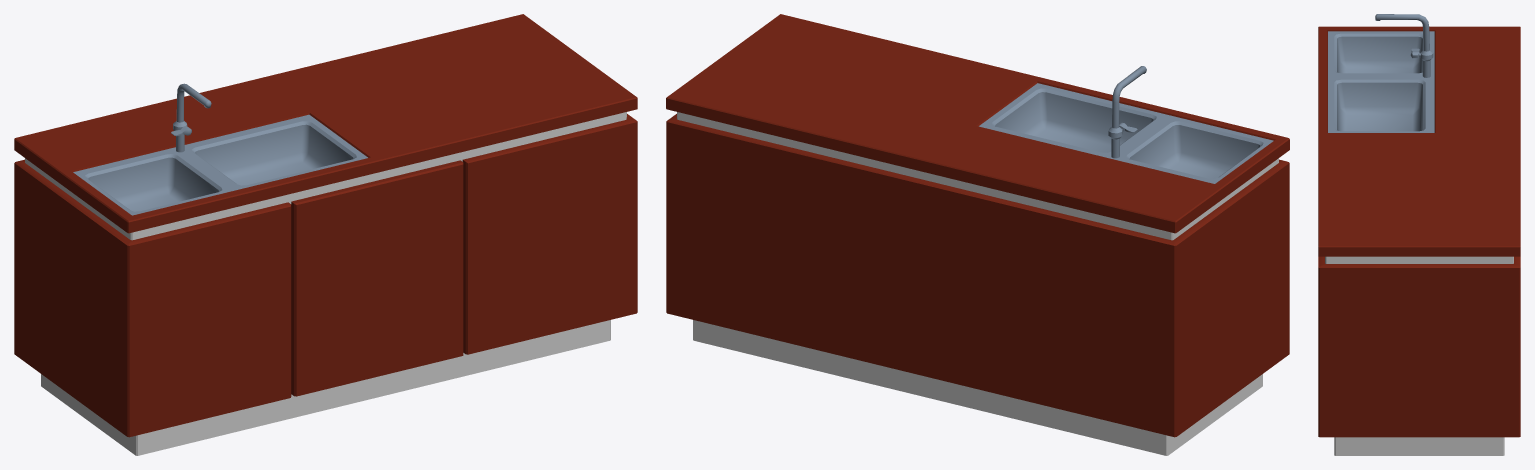
File: HZTZTCU0102.FBX
3 views of the same model, side by side, from view 1: azimuth 30°, elevation 25°; view 2: azimuth 150°, elevation 25°; view 3: azimuth 270°, elevation 25° (orthographic). The views are drawn at different scales.
Parts seen in each view (by area): view 1: HZTZTCU0102; view 2: HZTZTCU0102; view 3: HZTZTCU0102.
Boxes of the visible parts, x1,y1,x2,y2 form: HZTZTCU0102: [14, 14, 637, 455]; HZTZTCU0102: [666, 14, 1289, 455]; HZTZTCU0102: [1318, 14, 1520, 455].
Bounding box in the file's own units: 4572 × 2693 × 1778.
